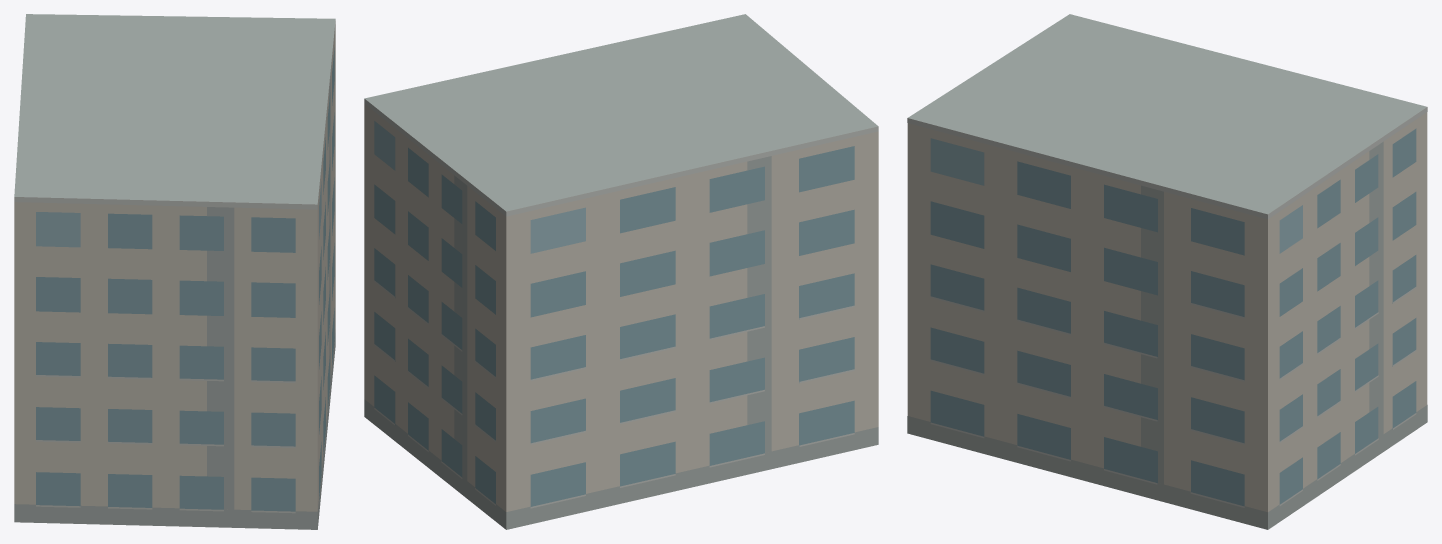
Rendered from survey-upis-32904474.glb.
3 views of the same model, side by side, from view 1: azimuth 30°, elevation 25°; view 2: azimuth 150°, elevation 25°; view 3: azimuth 270°, elevation 25° (orthographic). The views are drawn at different scales.
Parts seen in each view (by area): view 1: survey-upis-32904474.tmp; view 2: survey-upis-32904474.tmp; view 3: survey-upis-32904474.tmp.
Boxes of the visible parts, left/top/right/bottom form: survey-upis-32904474.tmp: left=14, top=14, right=335, bottom=529; survey-upis-32904474.tmp: left=364, top=14, right=878, bottom=529; survey-upis-32904474.tmp: left=907, top=14, right=1427, bottom=529.
Size of the model in its own units: 20.78 by 15.25 by 22.79.
